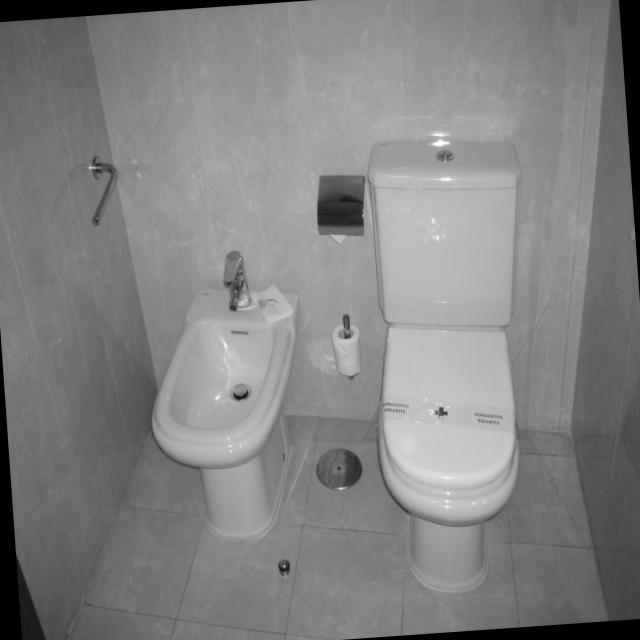bidet faucet: (150, 249, 300, 542)
floor -X: (64, 404, 608, 640)
toilet bowl: (368, 140, 521, 594)
toilet paper: (331, 324, 362, 376)
wall clock: (85, 0, 612, 432), (0, 17, 158, 640), (570, 0, 640, 619)
